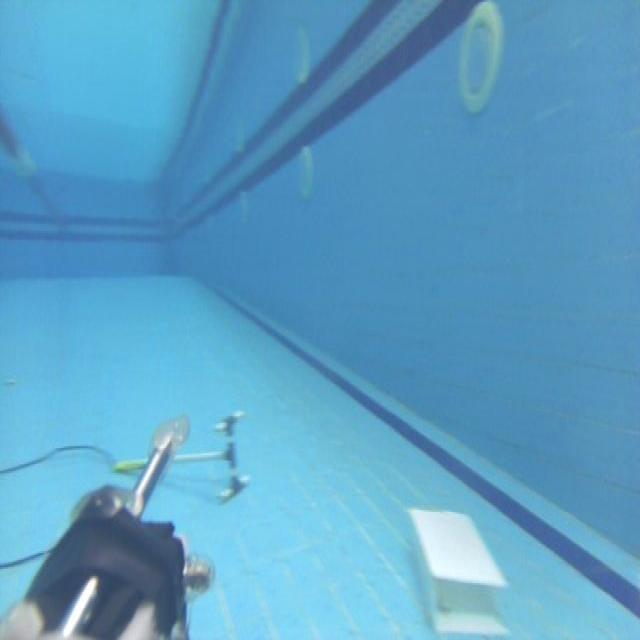Cuboid: (406, 503, 509, 633)
